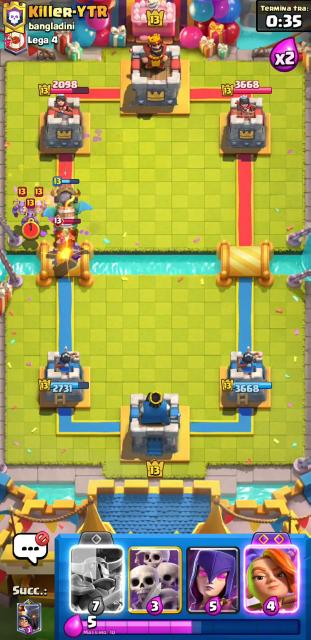ally_air: (43, 185, 93, 237)
enemy_air: (12, 198, 28, 218), (21, 211, 39, 227), (34, 200, 50, 217)
enemy_melee: (52, 233, 80, 266)
